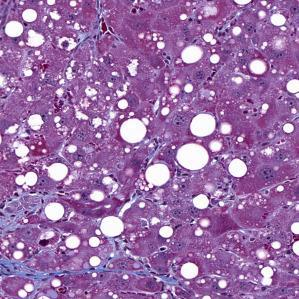fibrosis: (5, 188, 51, 235)
